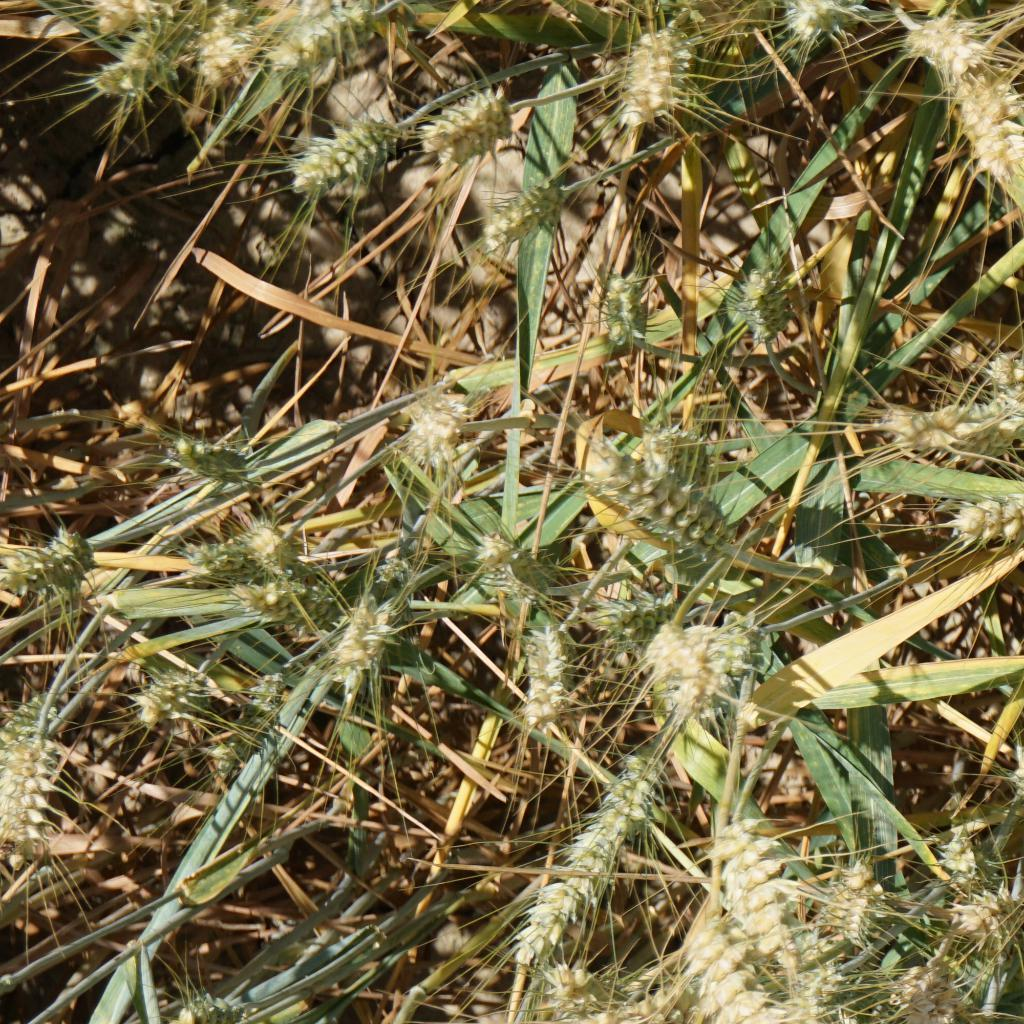0-0: (513, 746, 665, 968), (598, 460, 736, 572), (872, 386, 1024, 469), (209, 662, 296, 785), (636, 618, 732, 728), (599, 728, 684, 852), (720, 826, 799, 954), (675, 892, 753, 1014), (513, 615, 583, 739), (290, 105, 399, 184), (415, 82, 516, 167), (466, 521, 563, 606), (272, 7, 385, 79), (899, 9, 1001, 88), (236, 565, 347, 636), (607, 27, 692, 119), (949, 69, 1024, 173), (7, 736, 62, 870), (884, 945, 977, 1024), (580, 586, 683, 654), (482, 175, 557, 268), (944, 466, 1024, 553), (0, 525, 91, 601), (975, 343, 1024, 474), (125, 654, 200, 739), (598, 274, 664, 364), (736, 270, 807, 351), (544, 958, 631, 1024), (819, 850, 880, 940), (649, 429, 728, 497), (950, 879, 1024, 951), (332, 591, 385, 691), (102, 15, 163, 99), (241, 520, 310, 591), (782, 952, 848, 1024), (365, 544, 427, 615), (172, 428, 250, 482), (786, 0, 868, 48), (405, 399, 464, 462), (195, 5, 250, 72), (192, 524, 252, 583), (166, 987, 258, 1024), (0, 687, 64, 736), (928, 822, 982, 876), (1007, 735, 1024, 843)
